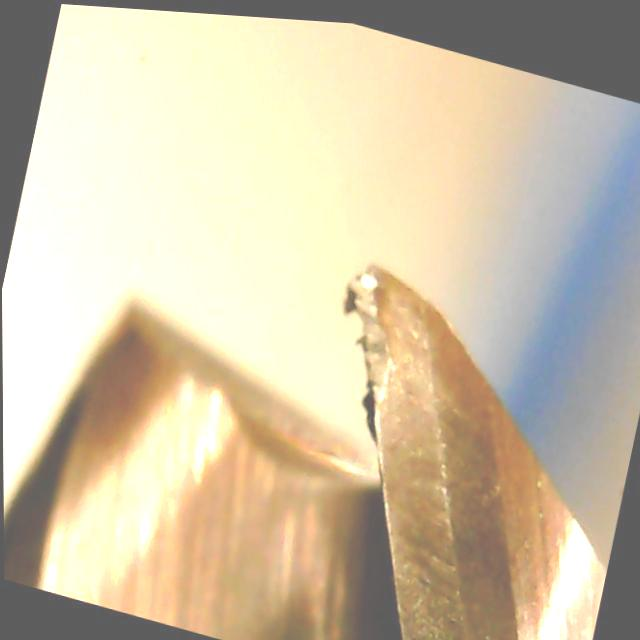Tool-wear-class-1: (304, 224, 496, 539)
